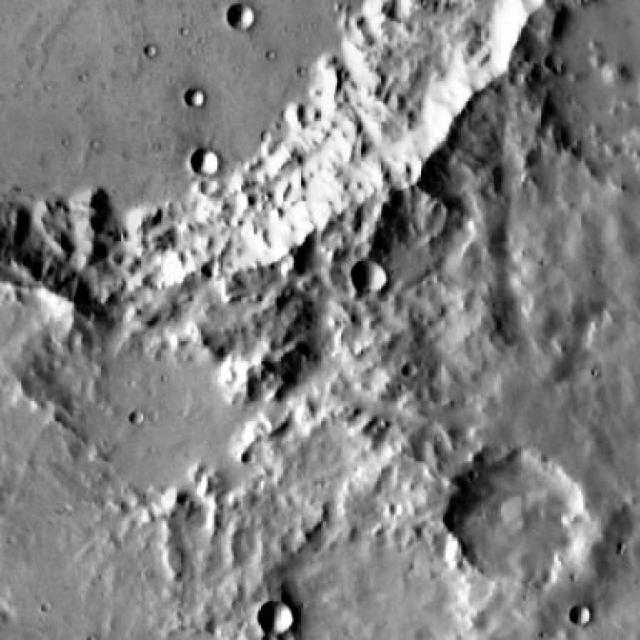crater: (1, 0, 552, 286), (296, 506, 493, 640), (461, 442, 604, 581), (263, 599, 300, 635), (349, 258, 386, 293), (227, 2, 255, 29), (191, 147, 217, 173), (571, 604, 591, 624), (184, 87, 202, 105)
